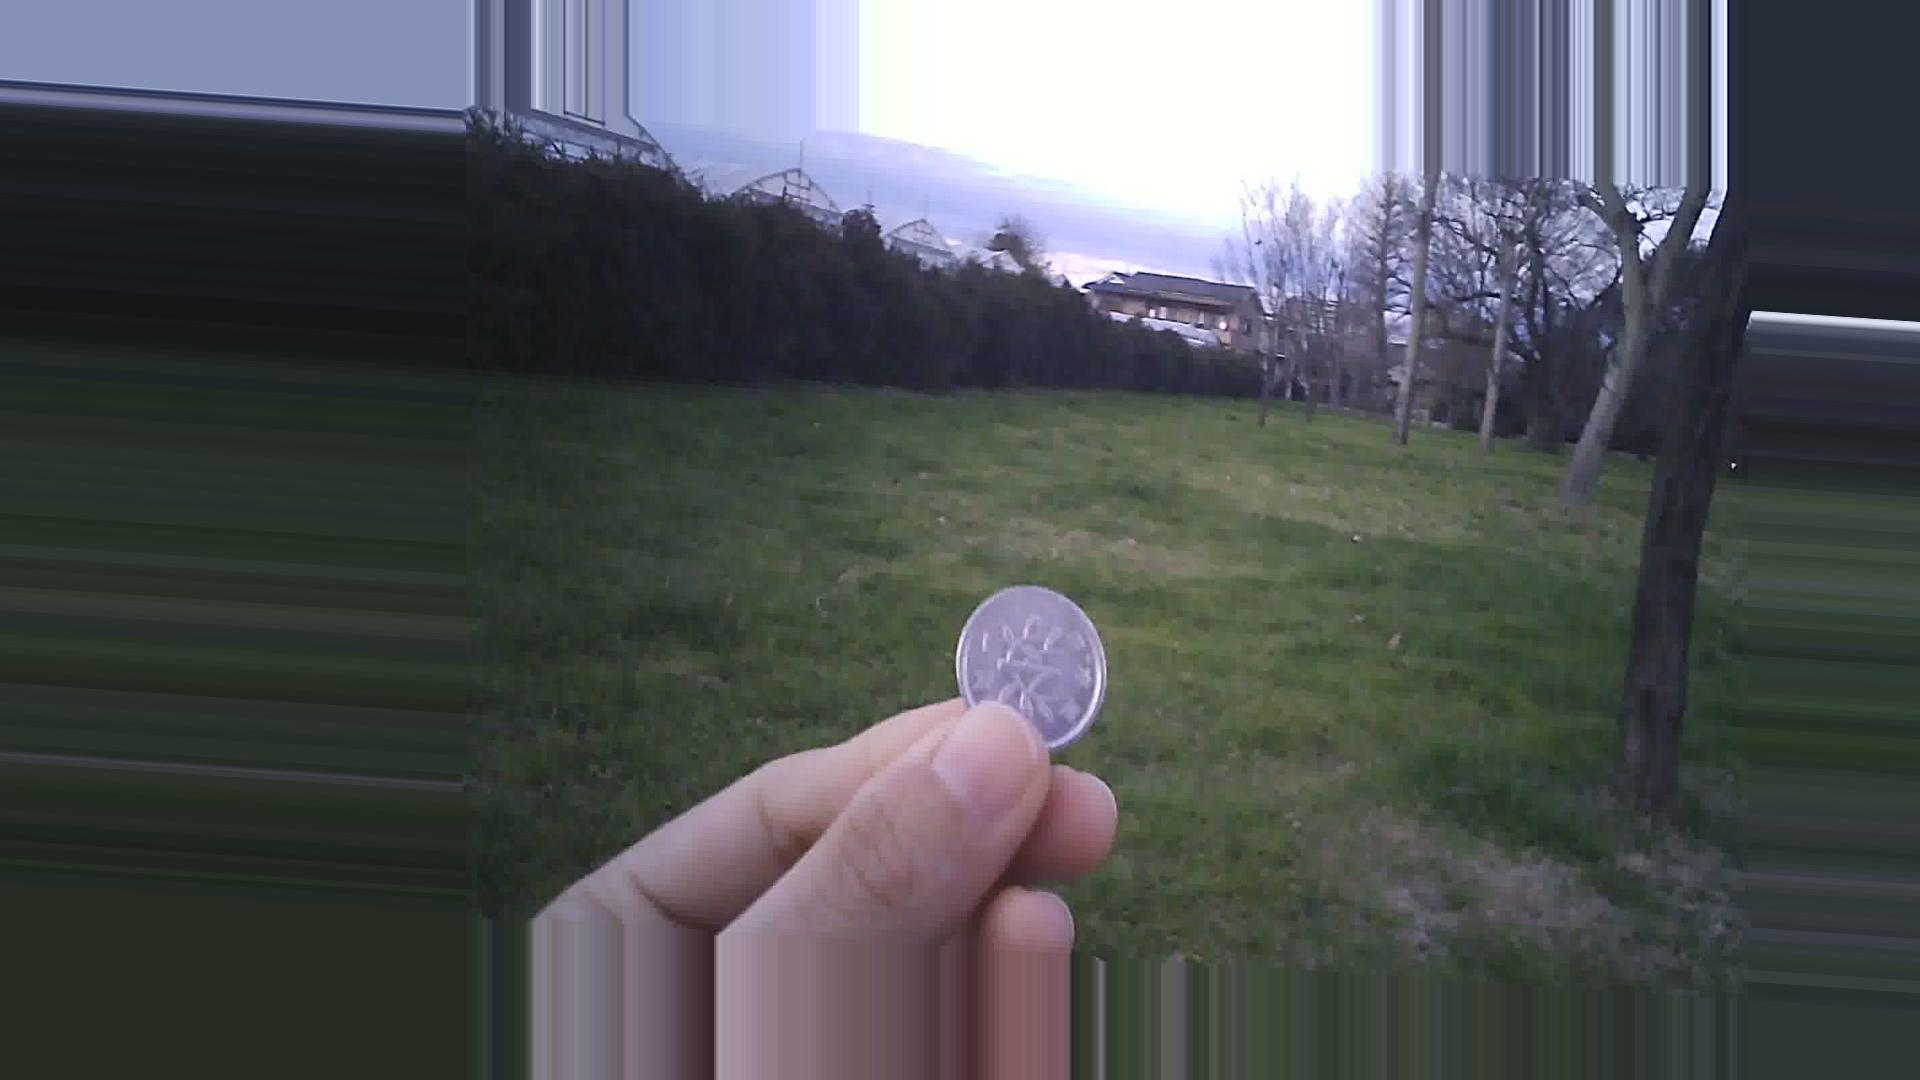1 Yen: (945, 575, 1129, 752)
